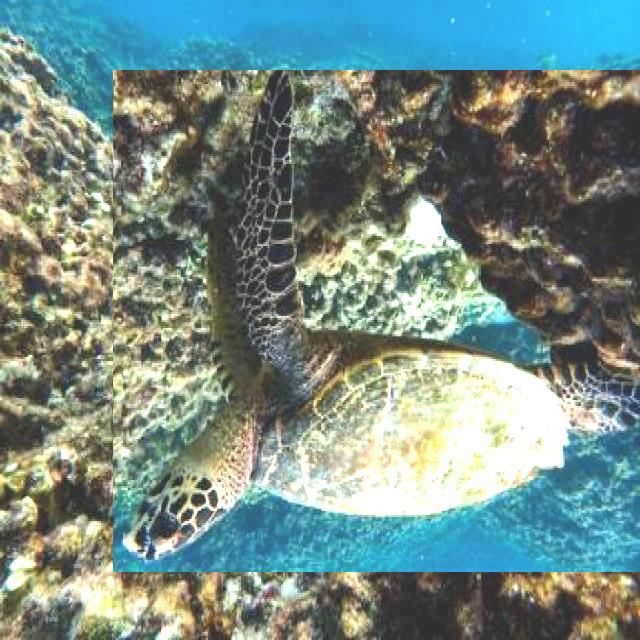Sea turtle: (113, 70, 640, 572)
